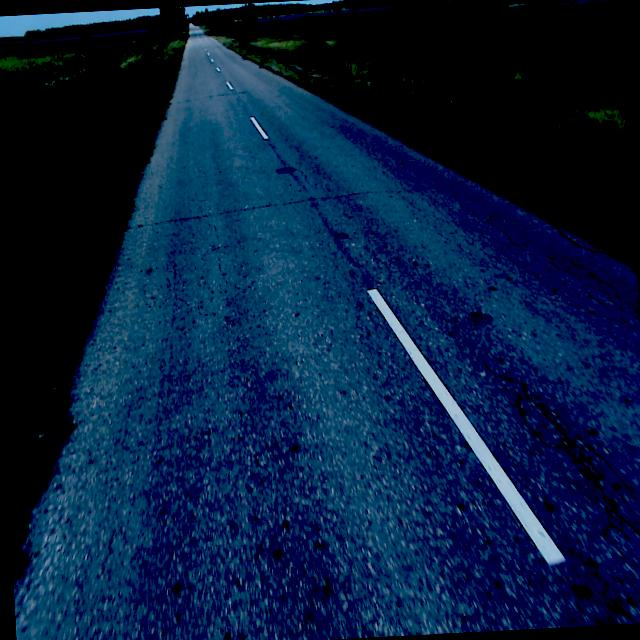road: (12, 24, 640, 640)
